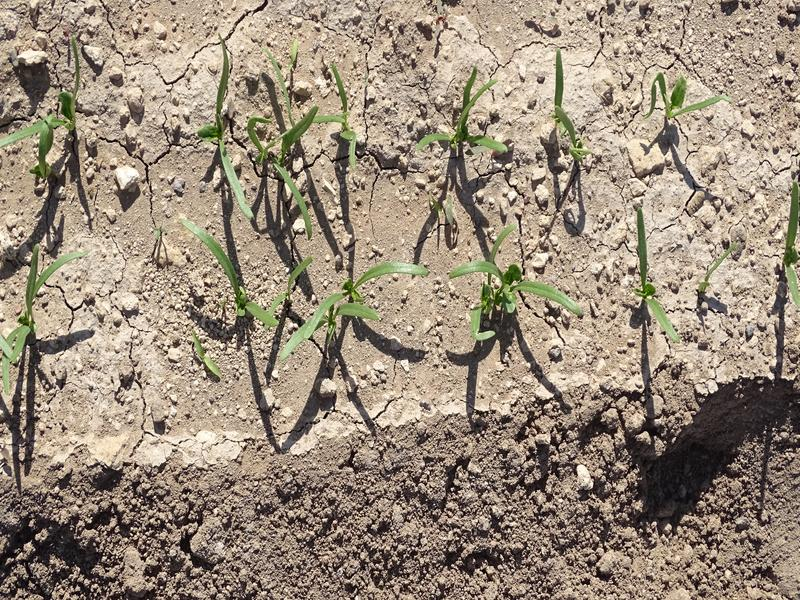Espinaca: (180, 225, 427, 354), (201, 42, 367, 216), (459, 230, 586, 335), (1, 241, 86, 387), (9, 54, 86, 163), (424, 72, 507, 164), (632, 209, 680, 336), (550, 61, 593, 164), (652, 70, 725, 122), (779, 180, 800, 306)
